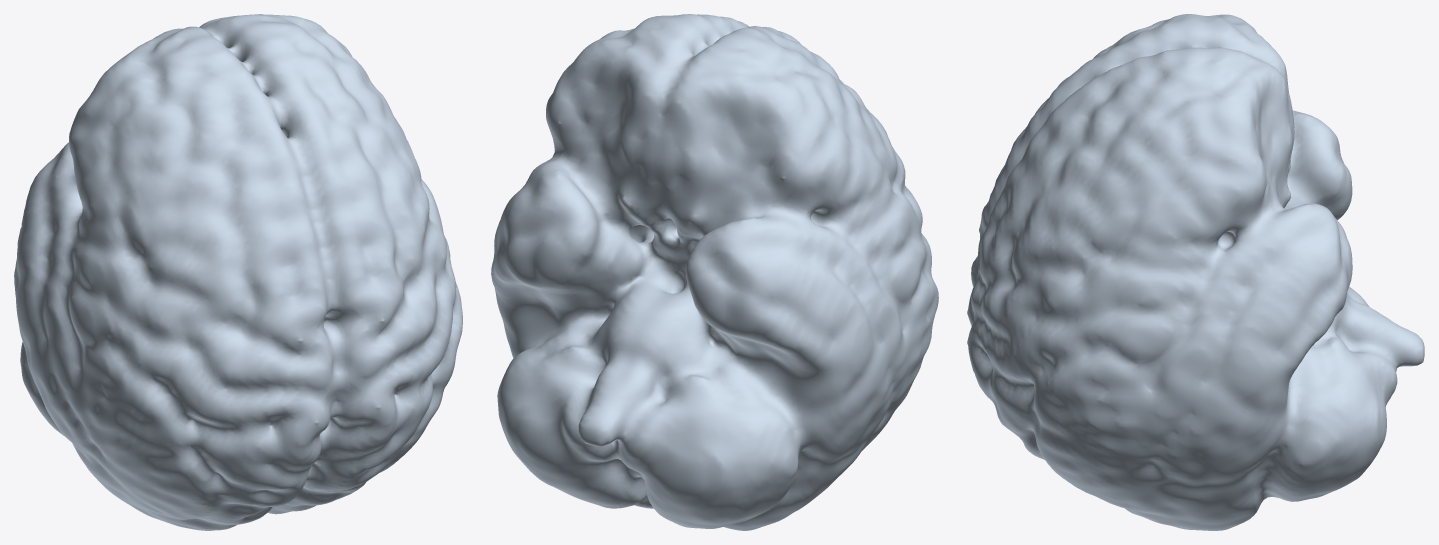
Rendered from mni152_2009c_sym_glass.glb.
3 views of the same model, side by side, from view 1: azimuth 30°, elevation 25°; view 2: azimuth 150°, elevation 25°; view 3: azimuth 270°, elevation 25° (orthographic). The views are drawn at different scales.
Parts seen in each view (by area): view 1: mni_brain; view 2: mni_brain; view 3: mni_brain.
Boxes of the visible parts, bbox=[...] form: mni_brain: bbox=[14, 14, 462, 530]; mni_brain: bbox=[491, 14, 938, 530]; mni_brain: bbox=[967, 14, 1424, 530].
Size of the model in its own units: 143 by 180 by 159.
